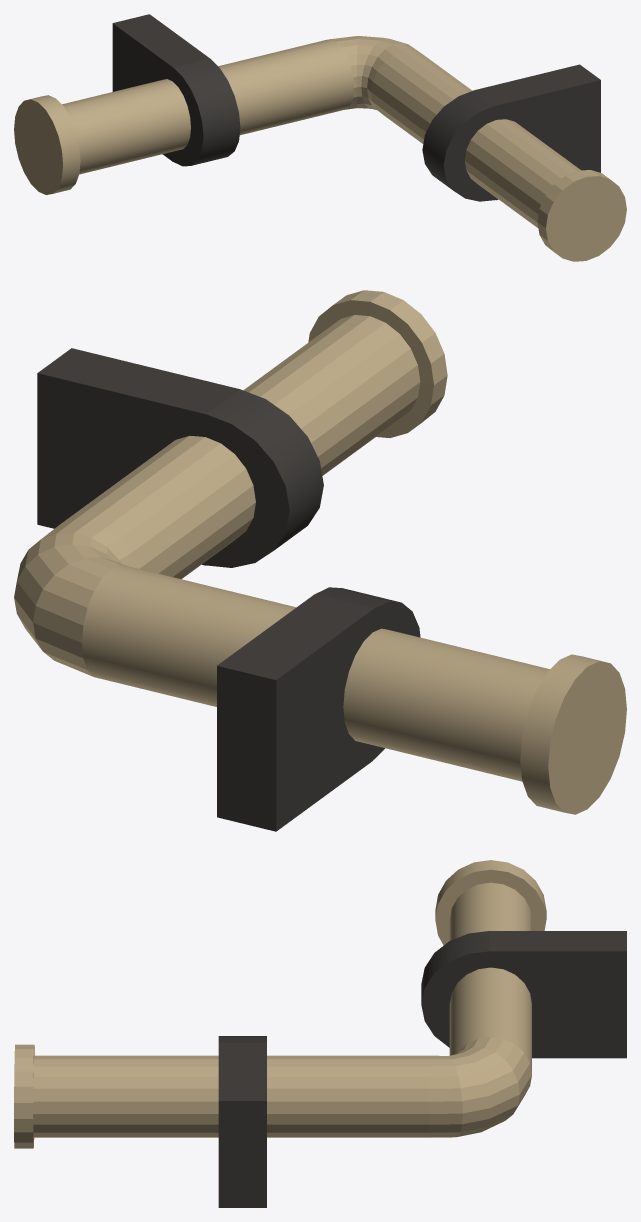
File: pipe_shape_4.fbx
3 views of the same model, one above another, from view 1: azimuth 30°, elevation 25°; view 2: azimuth 150°, elevation 25°; view 3: azimuth 270°, elevation 25° (orthographic). The views are drawn at different scales.
Parts seen in each view (by area): view 1: pCylinder1, pCylinder68, pCylinder67; view 2: pCylinder1, pCylinder68, pCylinder67; view 3: pCylinder1, pCylinder67, pCylinder68.
Boxes of the visible parts, x1=… form: pCylinder1: x1=14, y1=35, x2=626, y2=261; pCylinder68: x1=422, y1=64, x2=600, y2=201; pCylinder67: x1=112, y1=14, x2=240, y2=166; pCylinder1: x1=14, y1=290, x2=626, y2=814; pCylinder68: x1=37, y1=348, x2=323, y2=567; pCylinder67: x1=217, y1=587, x2=420, y2=831; pCylinder1: x1=14, y1=860, x2=546, y2=1148; pCylinder67: x1=421, y1=931, x2=626, y2=1058; pCylinder68: x1=218, y1=1036, x2=266, y2=1207.
Size of the model in its own units: 1.57 by 0.3208 by 1.67.
